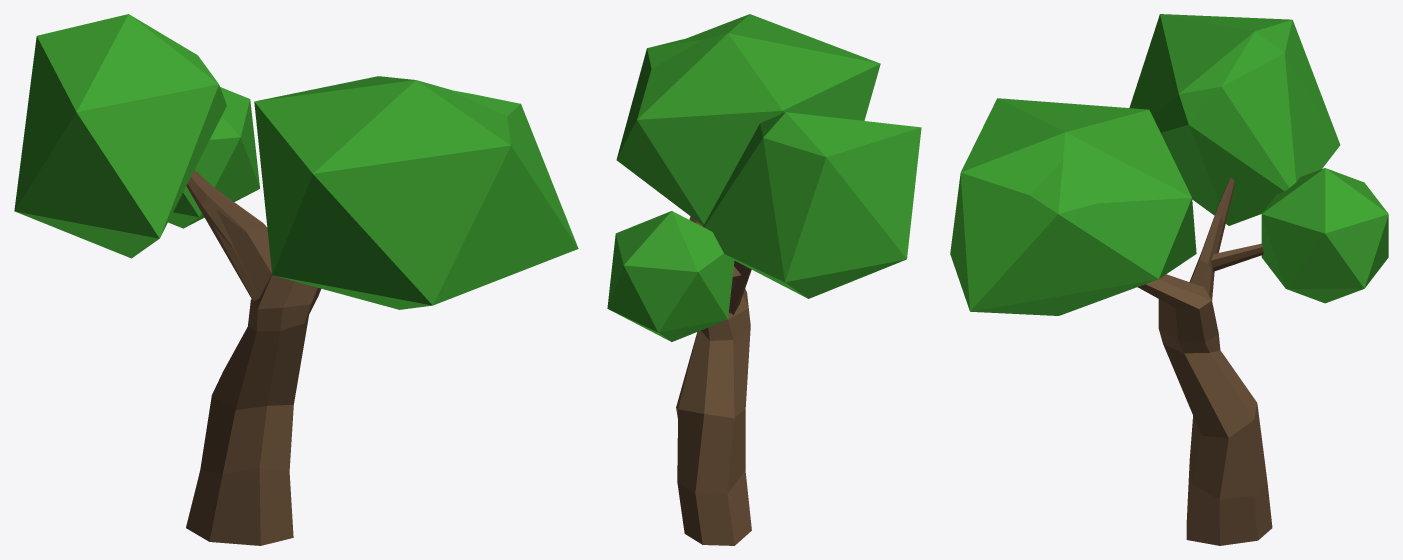
Rendered from Arv1.fbx.
The picture shows the model from 3 angles, left to right: view 1: azimuth 30°, elevation 25°; view 2: azimuth 150°, elevation 25°; view 3: azimuth 270°, elevation 25°; orthographic projection. The views are drawn at different scales.
Visible parts, largest first — view 1: Cylinder; view 2: Cylinder; view 3: Cylinder.
Part boxes in pixels (left/top/right/bottom): Cylinder: left=14, top=14, right=578, bottom=545; Cylinder: left=607, top=14, right=921, bottom=545; Cylinder: left=950, top=14, right=1388, bottom=545.
Size of the model in its own units: 1087 by 1326 by 1148.
